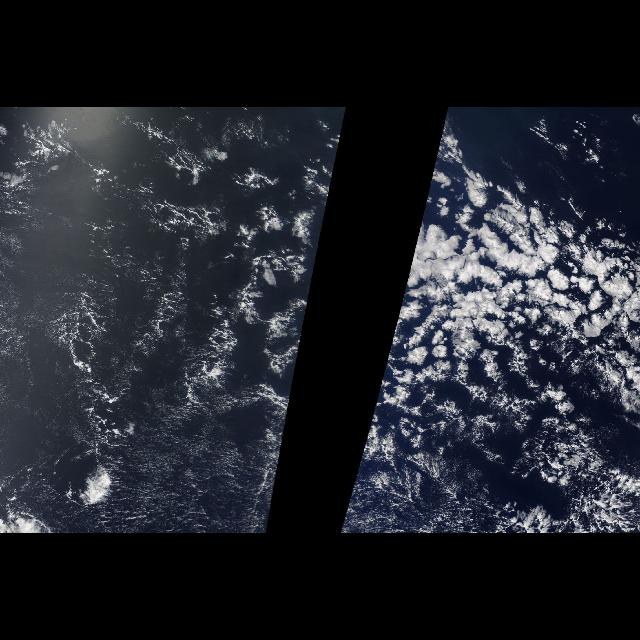Flower: (376, 170, 638, 426)
Gravel: (28, 126, 260, 528)
Sugar: (1, 280, 286, 532), (340, 432, 490, 532)
